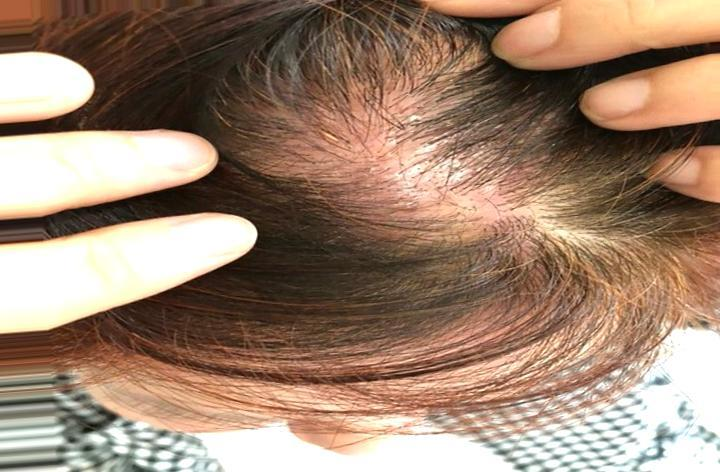Contact Dermatitis: (256, 40, 523, 299)
